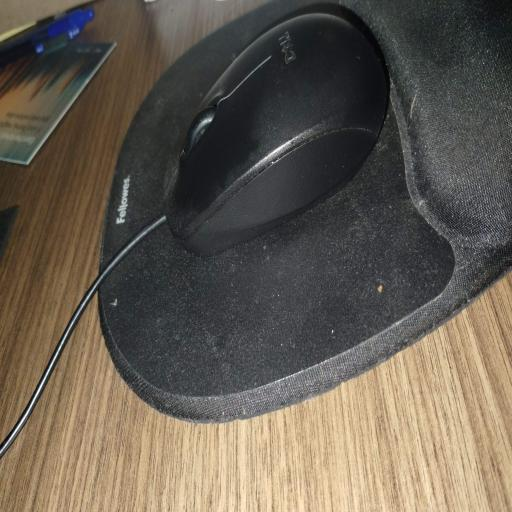mouse: (165, 14, 387, 255)
